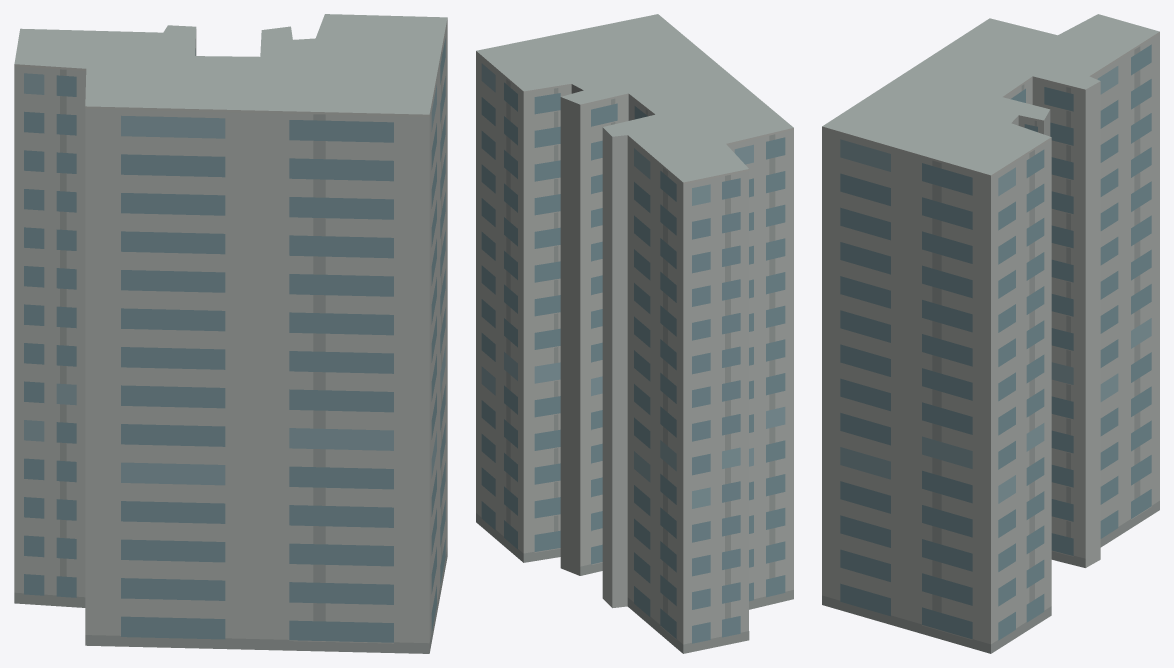
The model's file is residential-880d7124-2fa5-4c8f-9b46-b2f0cd3b1092.glb.
The picture shows the model from 3 angles, left to right: view 1: azimuth 30°, elevation 25°; view 2: azimuth 150°, elevation 25°; view 3: azimuth 270°, elevation 25°; orthographic projection. The views are drawn at different scales.
Visible parts, largest first — view 1: residential-880d7124-2fa5-4c8f-9b46-b2f0cd3b1092.tmp; view 2: residential-880d7124-2fa5-4c8f-9b46-b2f0cd3b1092.tmp; view 3: residential-880d7124-2fa5-4c8f-9b46-b2f0cd3b1092.tmp.
Boxes of the visible parts, x1=… form: residential-880d7124-2fa5-4c8f-9b46-b2f0cd3b1092.tmp: x1=14, y1=14, x2=447, y2=653; residential-880d7124-2fa5-4c8f-9b46-b2f0cd3b1092.tmp: x1=476, y1=14, x2=793, y2=653; residential-880d7124-2fa5-4c8f-9b46-b2f0cd3b1092.tmp: x1=822, y1=14, x2=1159, y2=653.
Bounding box in the file's own units: 41.24 × 57 × 36.48.
